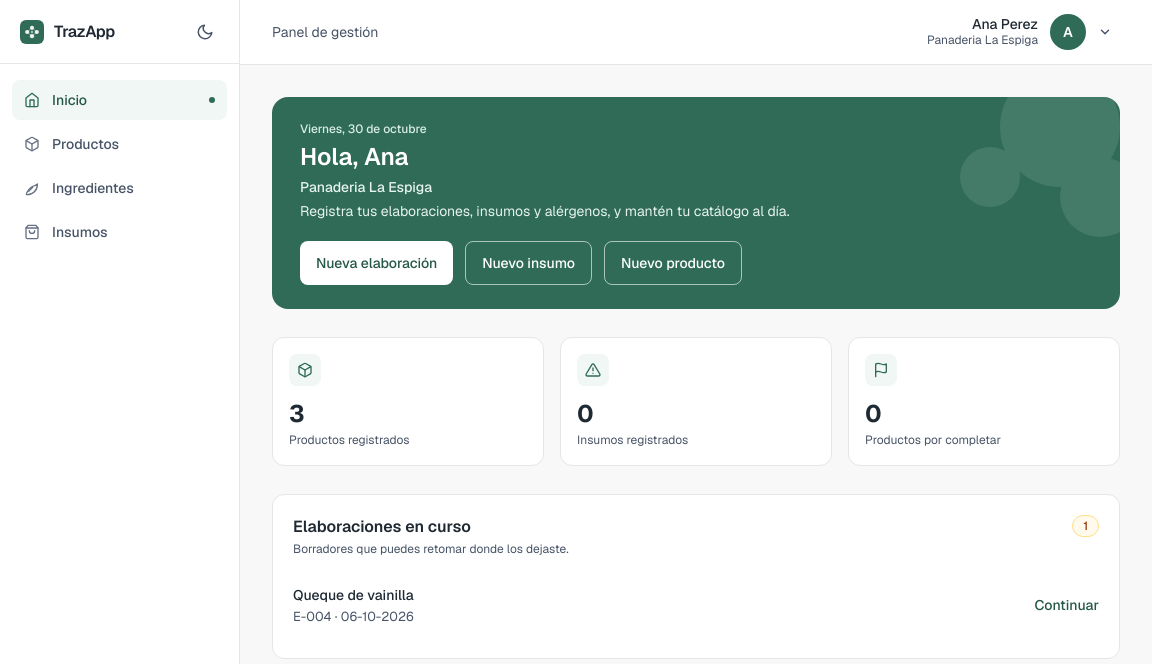
Test case: Dashboard: sección «Elaboraciones en curso» (HT06-07) › el enlace abre el registro de ese borrador
Step 1. Click the link with aria-label "Continuar elaboración E-004 de Queque de vainilla" → (353, 594), box [293, 586, 1099, 624]
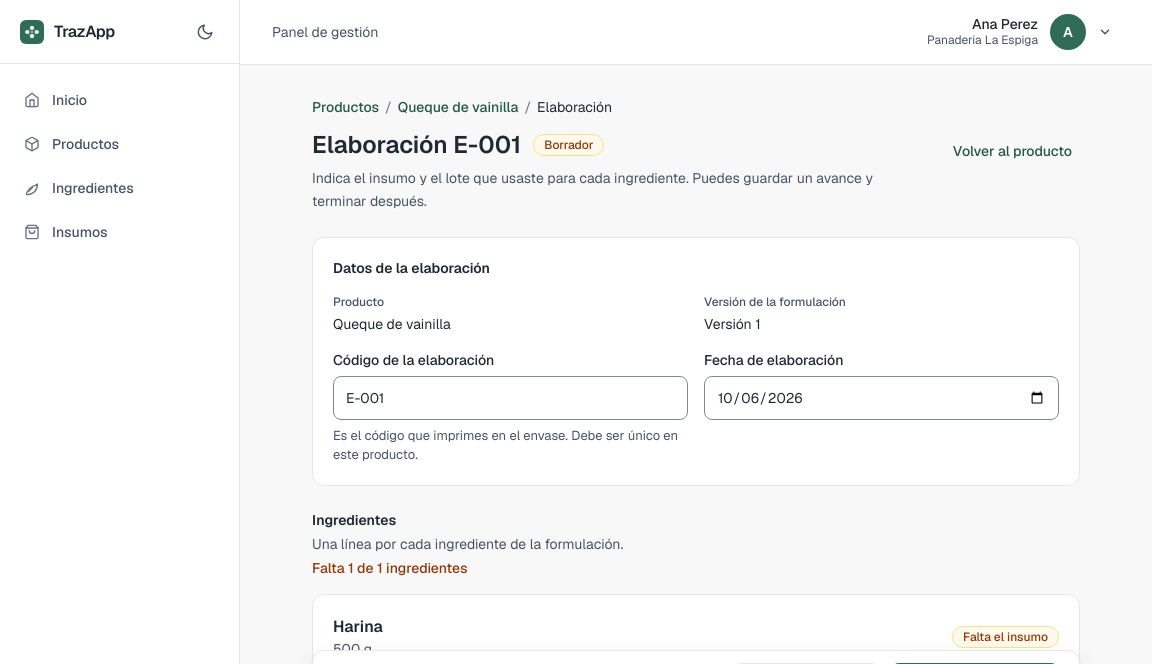
Now the heading "Elaboración E-001" is shown, box [312, 129, 521, 161]
